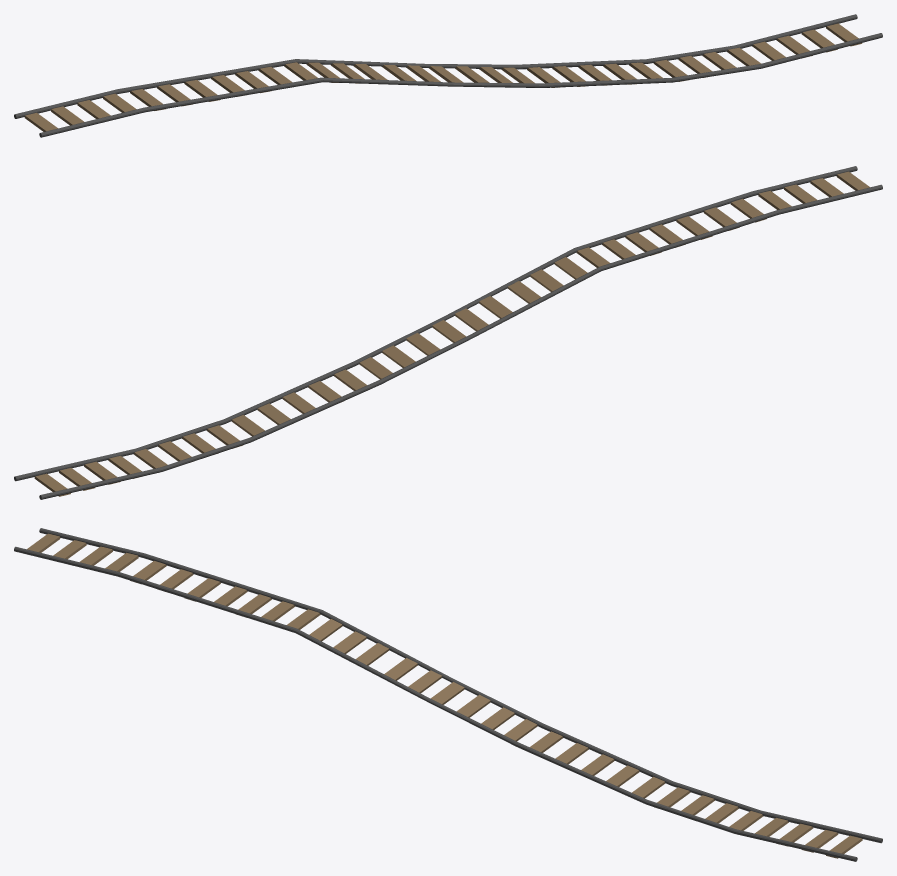
The model's file is rail .fbx.
The picture shows the model from 3 angles, top to bottom: view 1: azimuth 30°, elevation 25°; view 2: azimuth 210°, elevation 25°; view 3: azimuth 330°, elevation 25°; orthographic projection.
Visible parts, largest first — view 1: pCylinder17; view 2: pCylinder17; view 3: pCylinder17.
Part boxes in pixels (x1,y1,x2,y2): pCylinder17: (14, 14, 882, 137); pCylinder17: (14, 166, 882, 499); pCylinder17: (14, 528, 882, 861).
Bounding box in the file's own units: 21.74 × 2.76 × 1.24.
